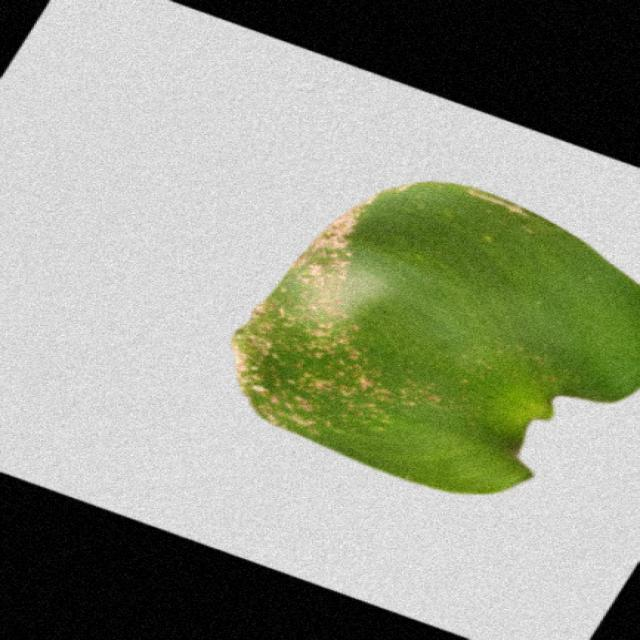daun berpenyakit bercak: (235, 182, 638, 493)
